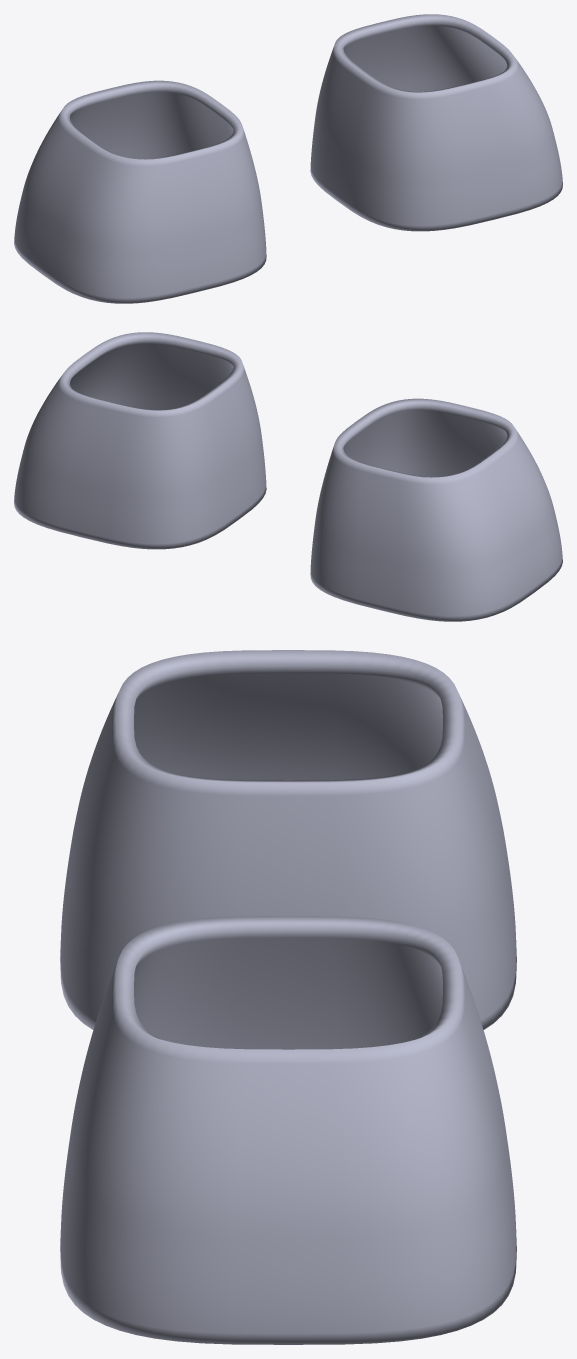
File: squire_greaves.glb
The picture shows the model from 3 angles, top to bottom: view 1: azimuth 30°, elevation 25°; view 2: azimuth 150°, elevation 25°; view 3: azimuth 270°, elevation 25°; orthographic projection. The views are drawn at different scales.
Parts seen in each view (by area): view 1: squire_greaves__shell_r, squire_greaves__shell_l; view 2: squire_greaves__shell_r, squire_greaves__shell_l; view 3: squire_greaves__shell_l, squire_greaves__shell_r.
Boxes of the visible parts, x1,y1,x2,y2 form: squire_greaves__shell_r: [14, 80, 266, 303]; squire_greaves__shell_l: [310, 14, 562, 231]; squire_greaves__shell_r: [310, 398, 562, 621]; squire_greaves__shell_l: [14, 332, 266, 549]; squire_greaves__shell_l: [60, 916, 516, 1344]; squire_greaves__shell_r: [60, 650, 516, 1029].
Size of the model in its own units: 1.52 by 0.3765 by 0.61.
